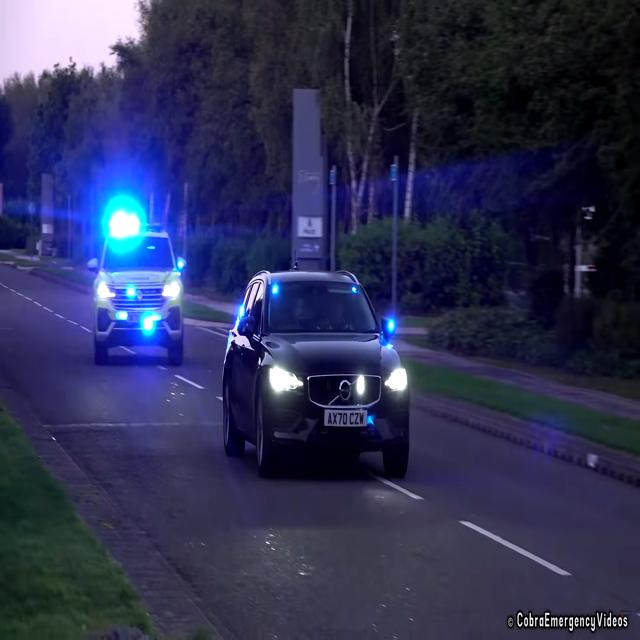emergency-vehicles: (196, 256, 464, 492), (54, 189, 204, 375)
